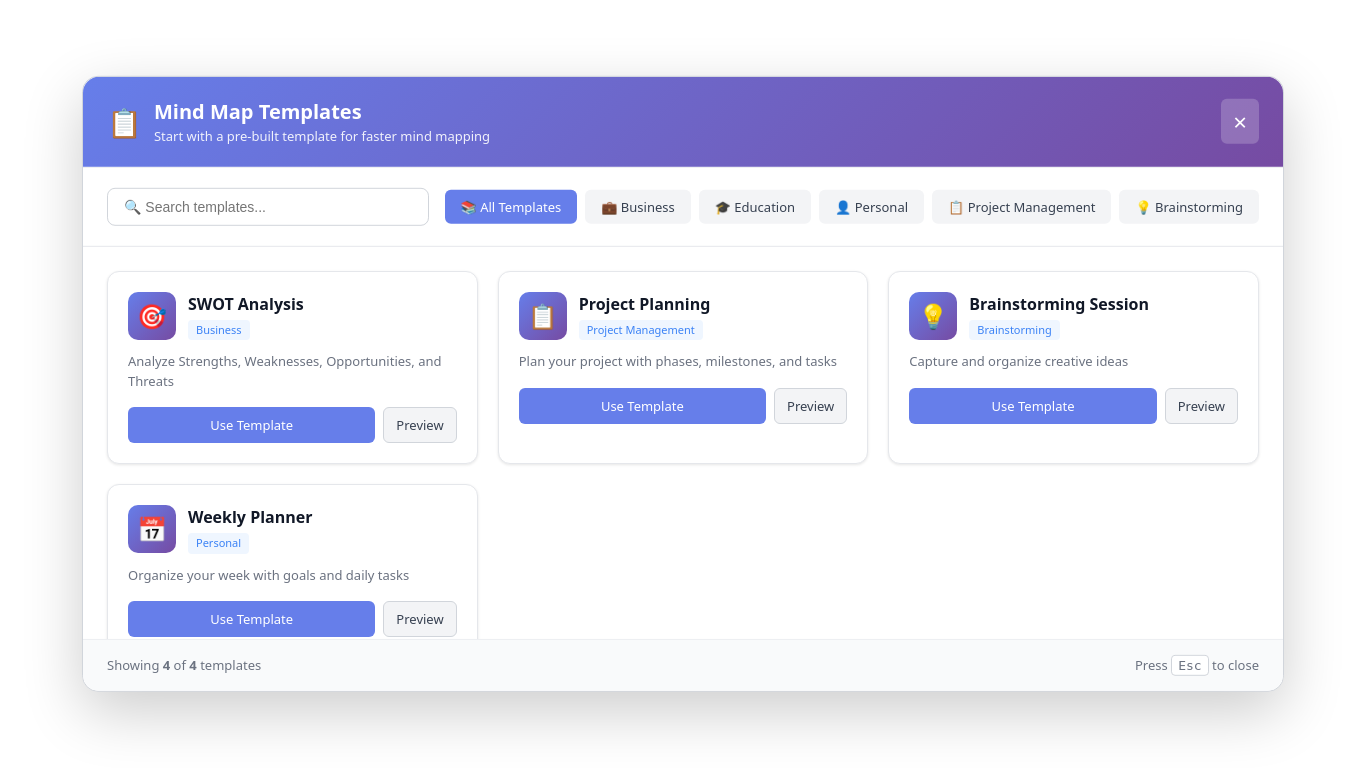
TemplatesPanel › template interaction › closes preview modal when close button is clicked
The width and height of the screenshot is (1366, 768).
Note: Open preview
Click the button with aria-label "preview swot analysis template" at (420, 425), box [383,407,457,443]
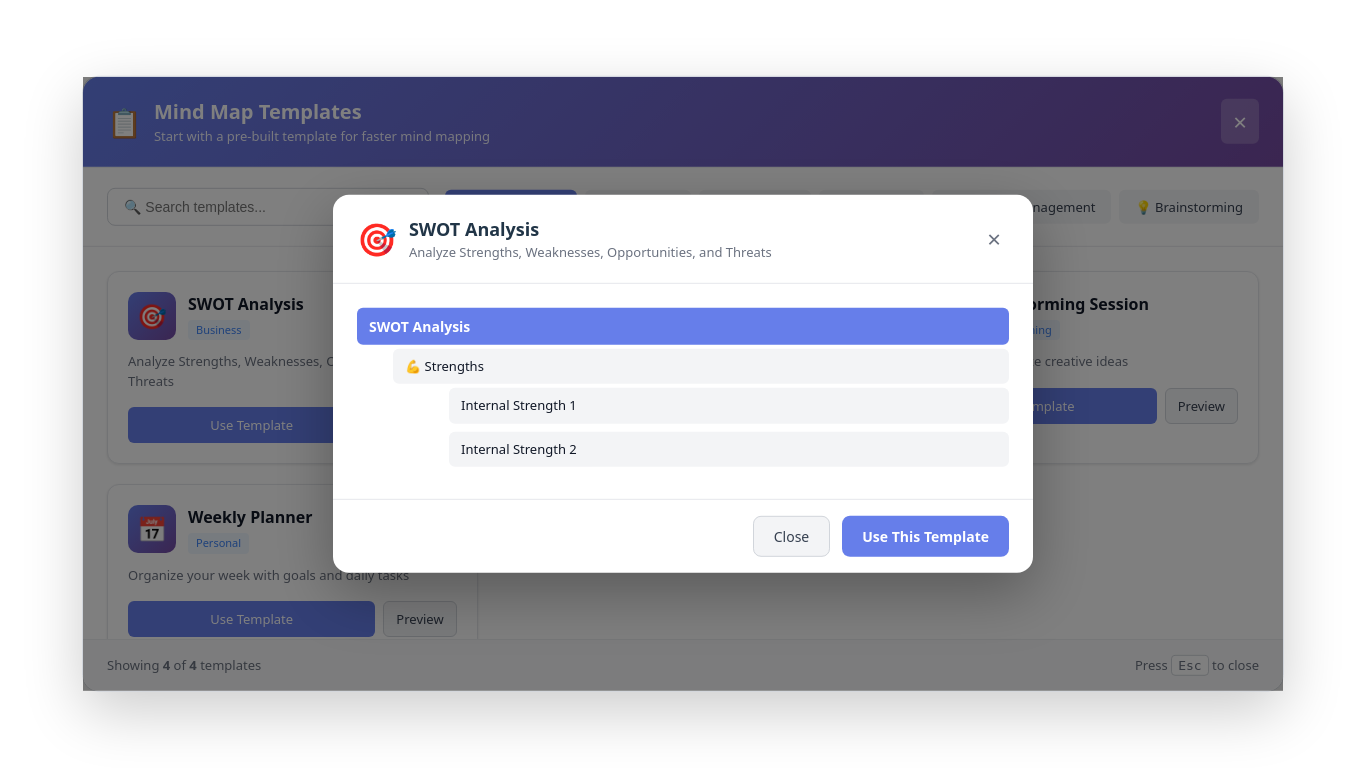
Note: Close preview
Click the button named "close template preview" at (994, 239), box [979,218,1009,259]
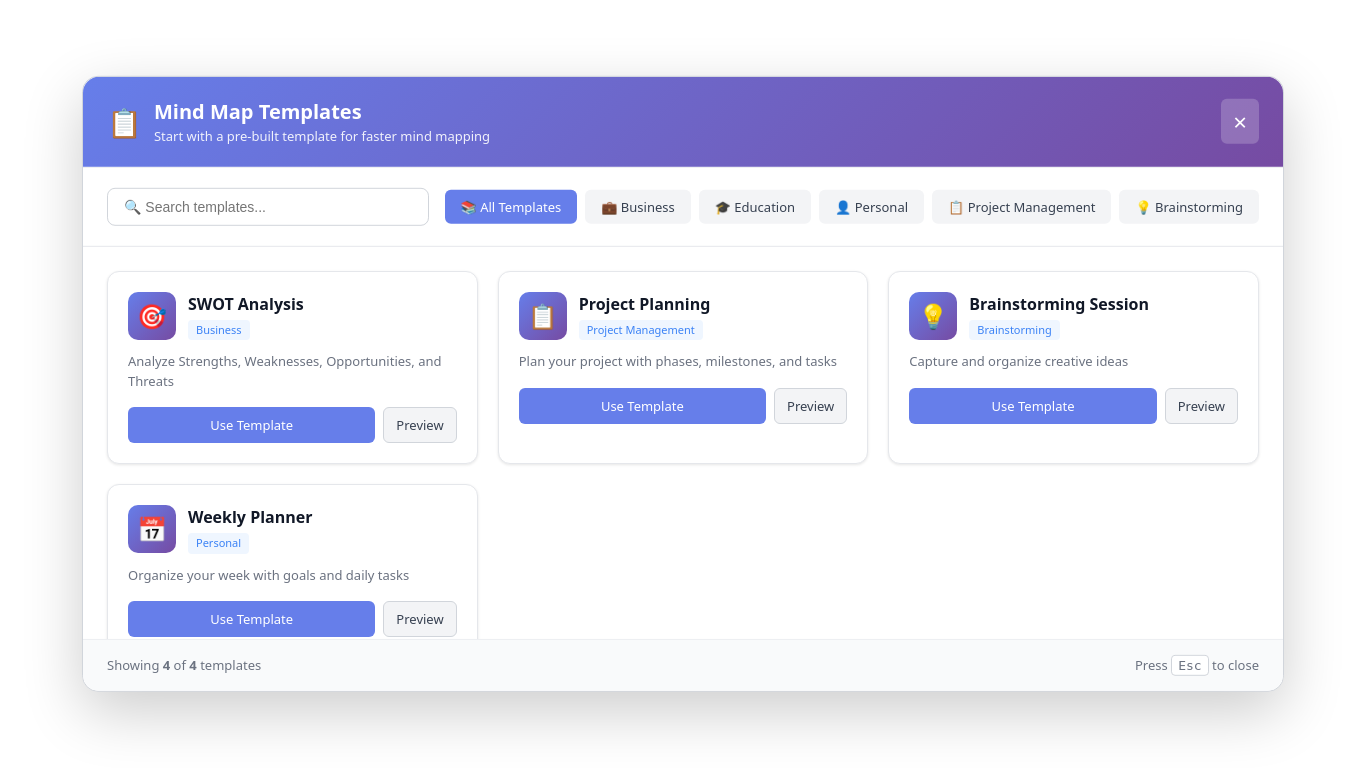
expect the number of dialogs is 1: met
